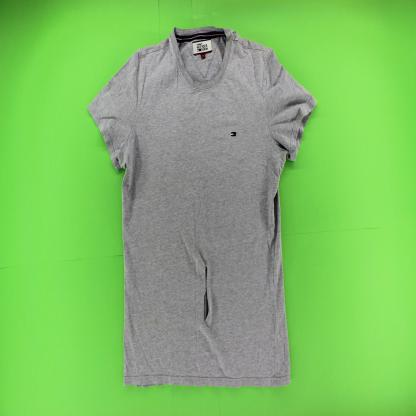hole: (203, 262, 210, 322)
